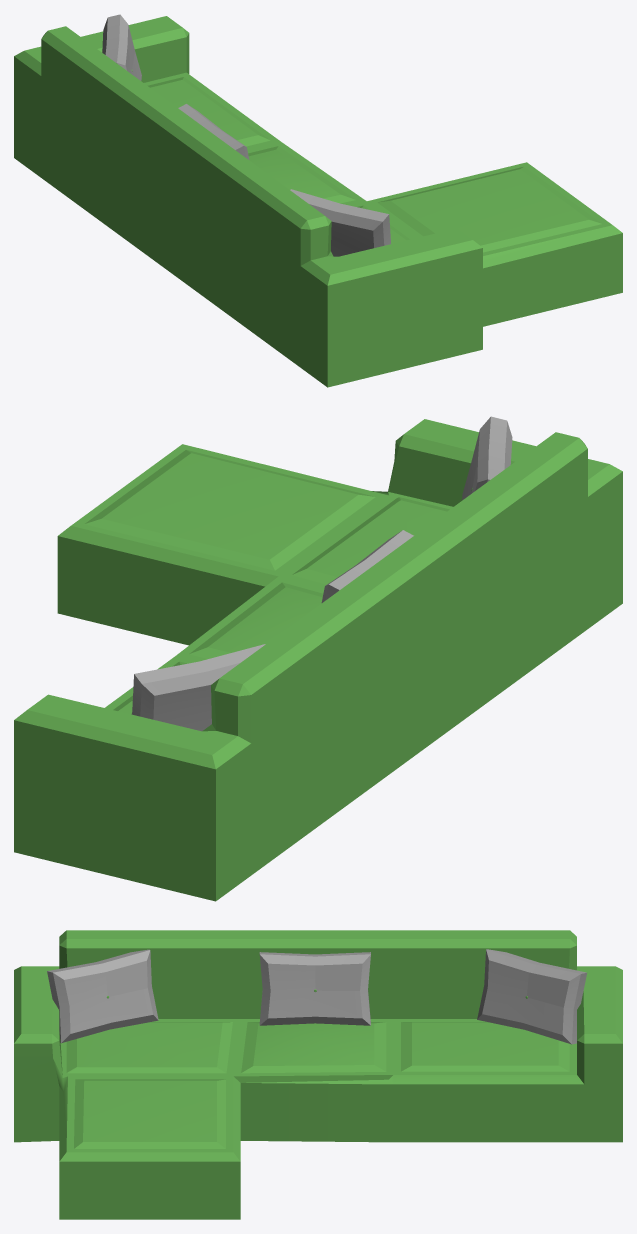
File: couch.fbx
The picture shows the model from 3 angles, top to bottom: view 1: azimuth 30°, elevation 25°; view 2: azimuth 150°, elevation 25°; view 3: azimuth 270°, elevation 25°; orthographic projection. The views are drawn at different scales.
Parts seen in each view (by area): view 1: Couch1; view 2: Couch1; view 3: Couch1.
Part boxes in pixels (x1=…): Couch1: x1=14, y1=14, x2=622, y2=387; Couch1: x1=14, y1=416, x2=622, y2=901; Couch1: x1=14, y1=930, x2=622, y2=1219.
Bounding box in the file's own units: 318 × 139 × 542.
